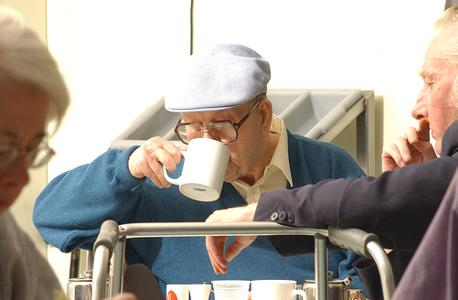person: (31, 41, 370, 300)
